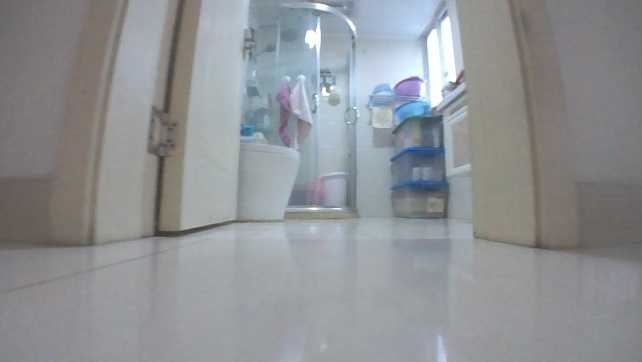door_anno: (48, 0, 257, 245)
toilet_part: (236, 143, 301, 220)
